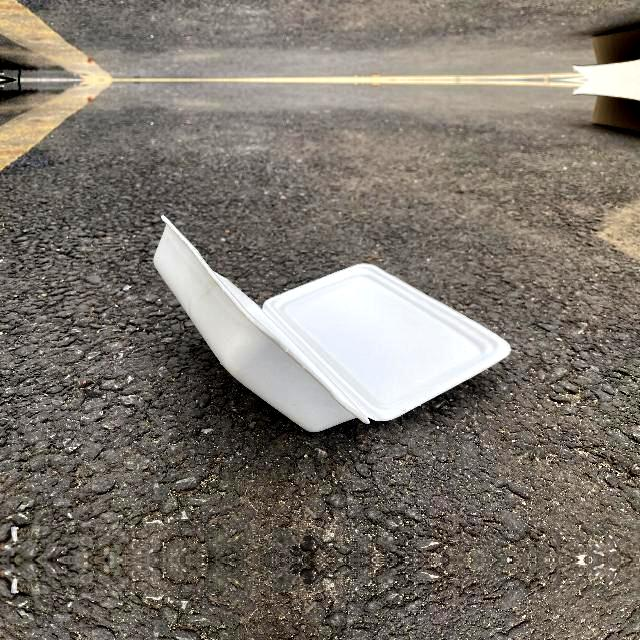Styrofoam: (154, 214, 511, 434), (154, 215, 511, 432)
